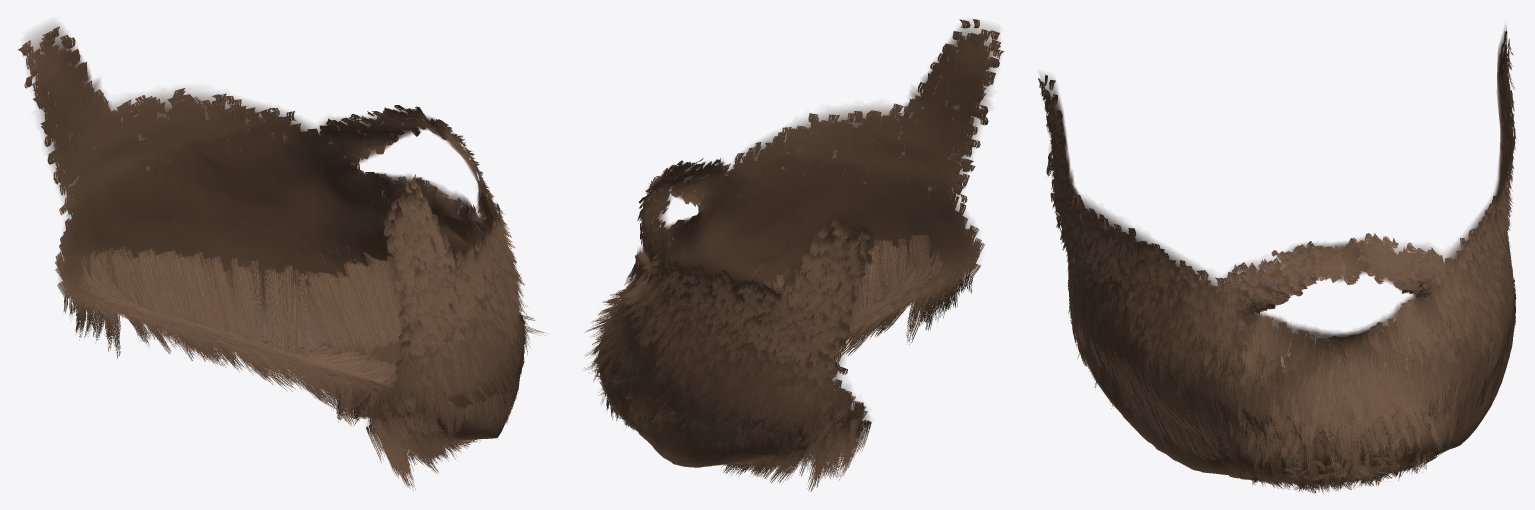
The model's file is beard-m3-full.glb.
The picture shows the model from 3 angles, left to right: view 1: azimuth 30°, elevation 25°; view 2: azimuth 150°, elevation 25°; view 3: azimuth 270°, elevation 25°; orthographic projection. The views are drawn at different scales.
Parts seen in each view (by area): view 1: Beard_m3_full_cards, Beard_m3_full_root; view 2: Beard_m3_full_cards, Beard_m3_full_root; view 3: Beard_m3_full_cards, Beard_m3_full_root.
Boxes of the visible parts, x1=… form: Beard_m3_full_cards: x1=18, y1=26, x2=547, y2=490; Beard_m3_full_root: x1=24, y1=23, x2=524, y2=439; Beard_m3_full_cards: x1=583, y1=19, x2=1004, y2=491; Beard_m3_full_root: x1=599, y1=21, x2=998, y2=467; Beard_m3_full_cards: x1=1038, y1=31, x2=1516, y2=493; Beard_m3_full_root: x1=1040, y1=25, x2=1513, y2=479.
Bounding box in the file's own units: 0.1481 × 0.1369 × 0.1665.
Materials: 2 (1 with a texture image).
